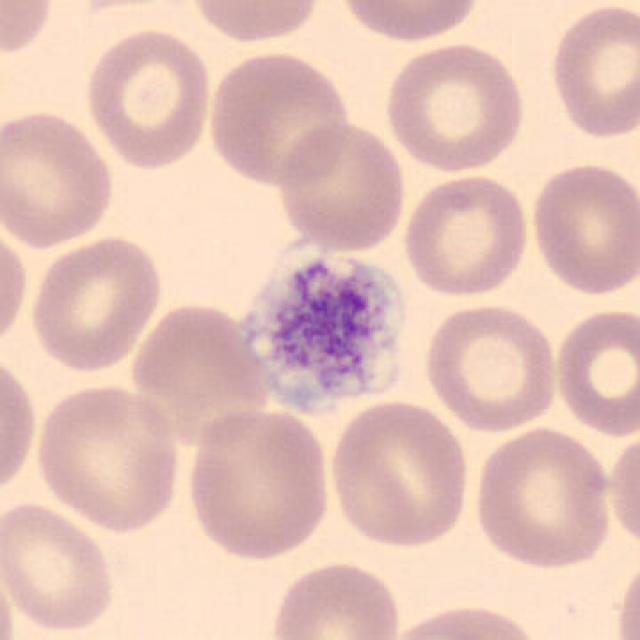Platelets: (226, 242, 421, 423)
RBC: (181, 404, 336, 564), (30, 379, 185, 534), (323, 397, 473, 552), (469, 423, 615, 573), (202, 48, 354, 190), (25, 231, 167, 374), (80, 23, 215, 173), (380, 39, 530, 174), (419, 300, 562, 436), (274, 118, 409, 254), (124, 296, 272, 420), (398, 171, 534, 300), (0, 106, 119, 250), (0, 497, 121, 635), (526, 159, 636, 298), (544, 0, 638, 143), (551, 303, 638, 439), (267, 557, 405, 640), (334, 0, 489, 46), (0, 347, 41, 508), (382, 601, 548, 640), (185, 0, 325, 46), (604, 428, 640, 552), (0, 220, 30, 358), (0, 0, 57, 63), (613, 552, 640, 640), (0, 559, 20, 640)
